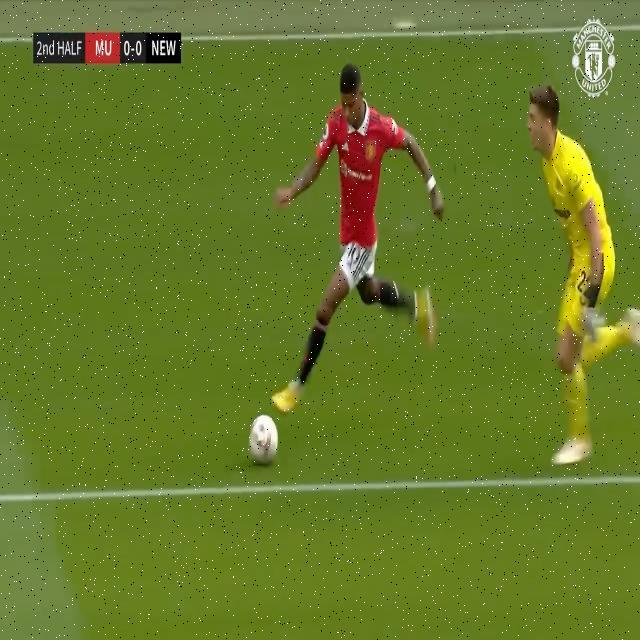Adidas: (343, 140, 351, 156)
TeamViewer: (342, 160, 372, 182)
